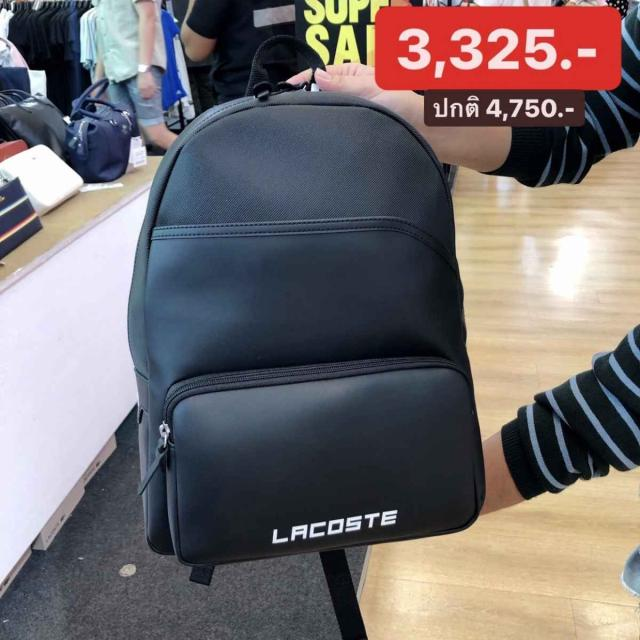Handbag: (124, 70, 496, 562)
